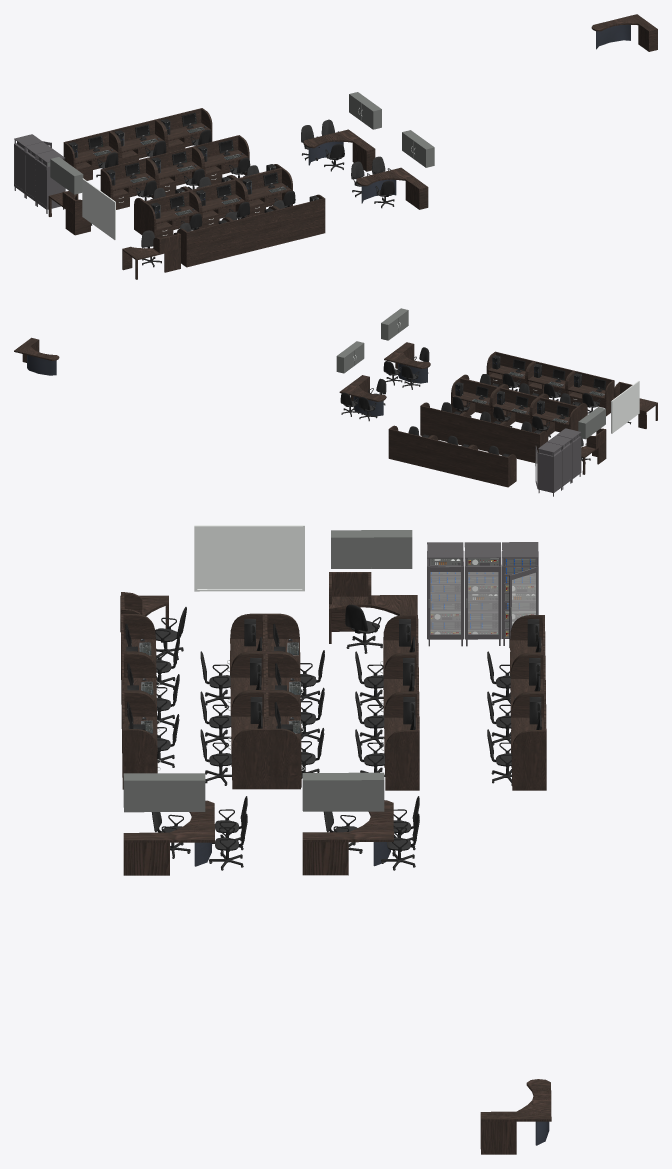
File: USIT-P2Soporte_.glb
3 views of the same model, one above another, from view 1: azimuth 30°, elevation 25°; view 2: azimuth 150°, elevation 25°; view 3: azimuth 270°, elevation 25° (orthographic). The views are drawn at different scales.
Parts seen in each view (by area): view 1: Escritorios_P2, AgarresMetal_P2, Soporte-Chairs, Compus-Soporte, MetalMesas_P2; view 2: Escritorios_P2, AgarresMetal_P2, Soporte-Chairs, Compus-Soporte, MetalMesas_P2; view 3: Escritorios_P2, AgarresMetal_P2, Soporte-Chairs, Compus-Soporte, Servidor_P2, MetalMesas_P2.
Part boxes in pixels (left/top/right/bottom): Escritorios_P2: left=48, top=14, right=657, bottom=279; AgarresMetal_P2: left=14, top=92, right=434, bottom=239; Soporte-Chairs: left=91, top=119, right=394, bottom=267; Compus-Soporte: left=68, top=112, right=318, bottom=223; MetalMesas_P2: left=308, top=24, right=630, bottom=203; Escritorios_P2: left=14, top=337, right=657, bottom=487; AgarresMetal_P2: left=336, top=308, right=639, bottom=496; Soporte-Chairs: left=340, top=347, right=631, bottom=463; Compus-Soporte: left=422, top=355, right=606, bottom=456; MetalMesas_P2: left=27, top=355, right=427, bottom=416; Escritorios_P2: left=120, top=572, right=551, bottom=1154; AgarresMetal_P2: left=123, top=525, right=538, bottom=812; Soporte-Chairs: left=151, top=604, right=511, bottom=870; Compus-Soporte: left=125, top=619, right=541, bottom=733; Servidor_P2: left=430, top=559, right=536, bottom=634; MetalMesas_P2: left=194, top=842, right=549, bottom=1145.
Size of the model in its own units: 0.2571 by 0.0243 by 0.0893.
7 materials, 7 textured.
